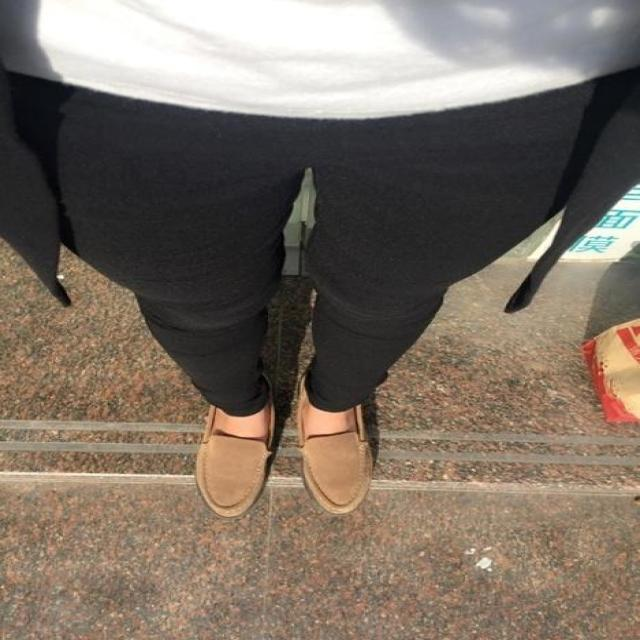trousers: (28, 78, 636, 440)
